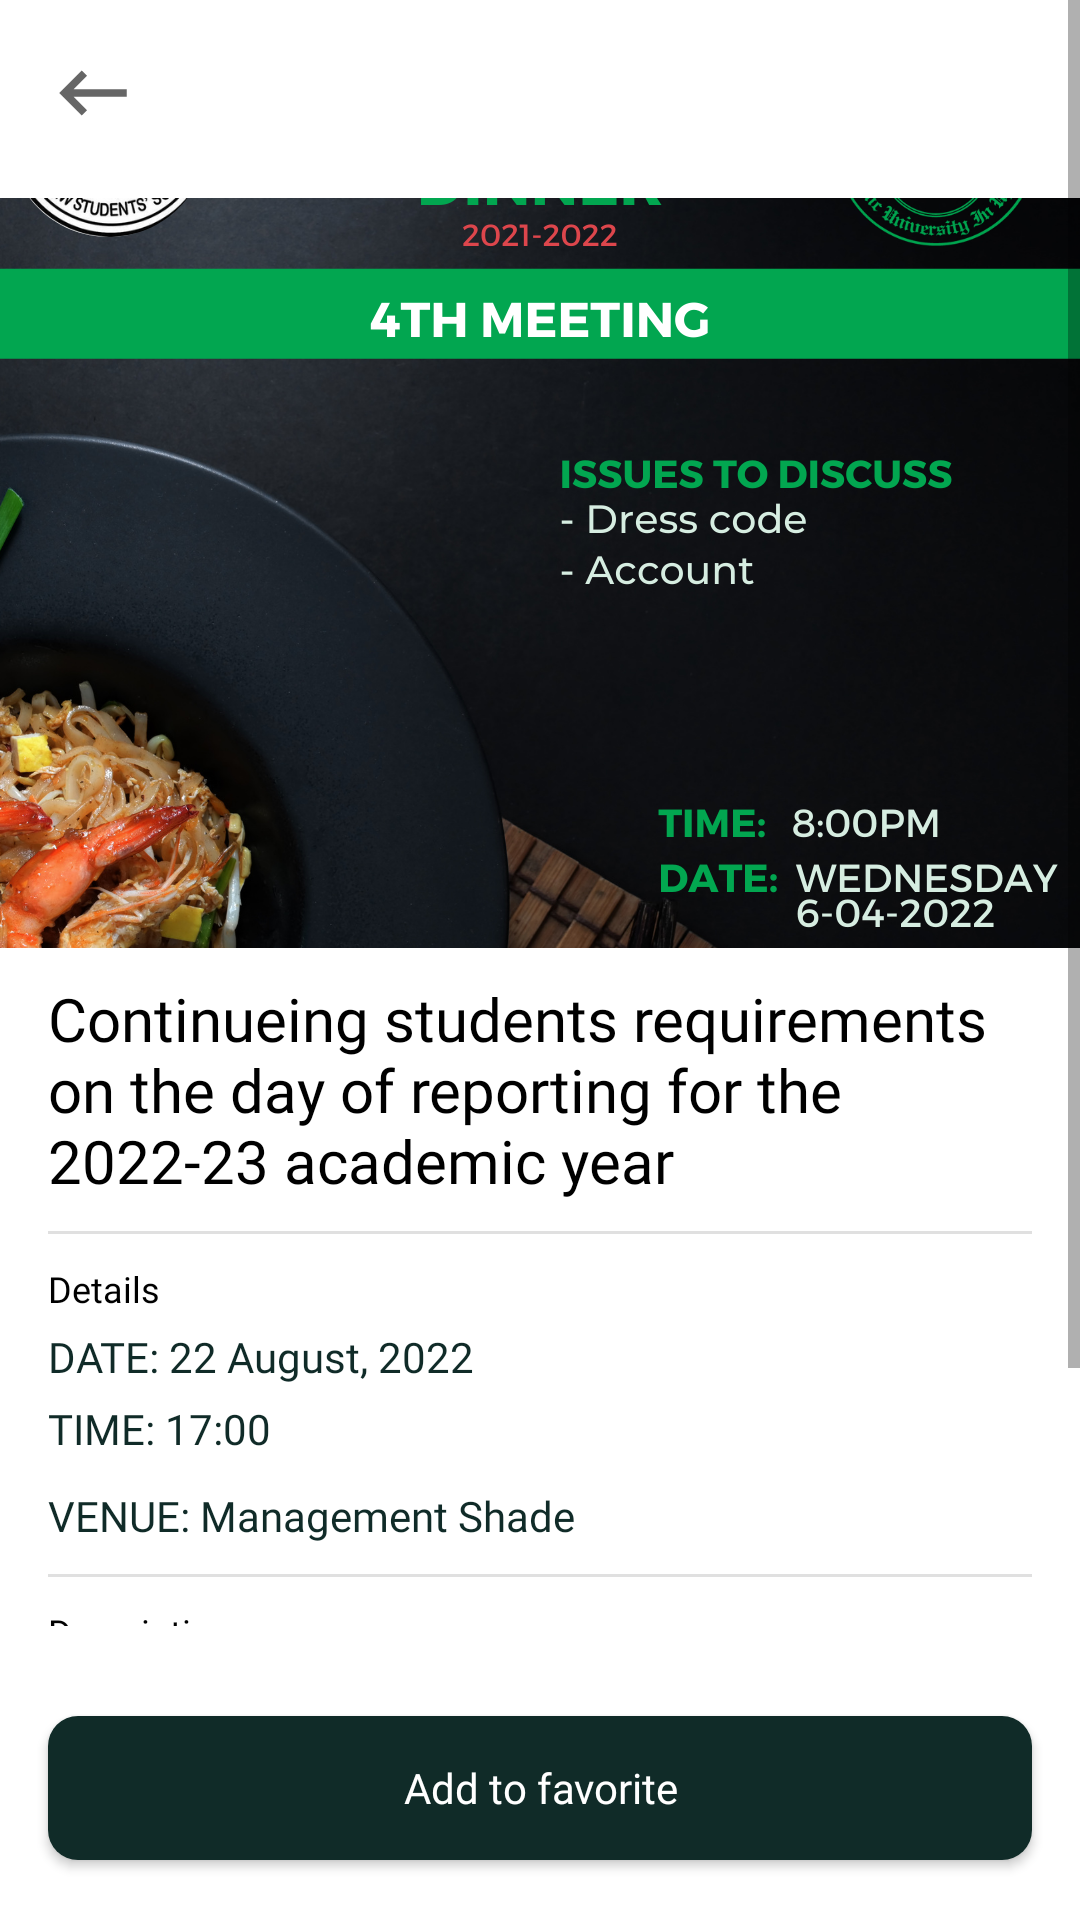

Screen size 1080w x 1920h. Icon name, then its box in pixels as (x1, y1, x2, y2):
back arrow: (59, 70, 127, 116)
